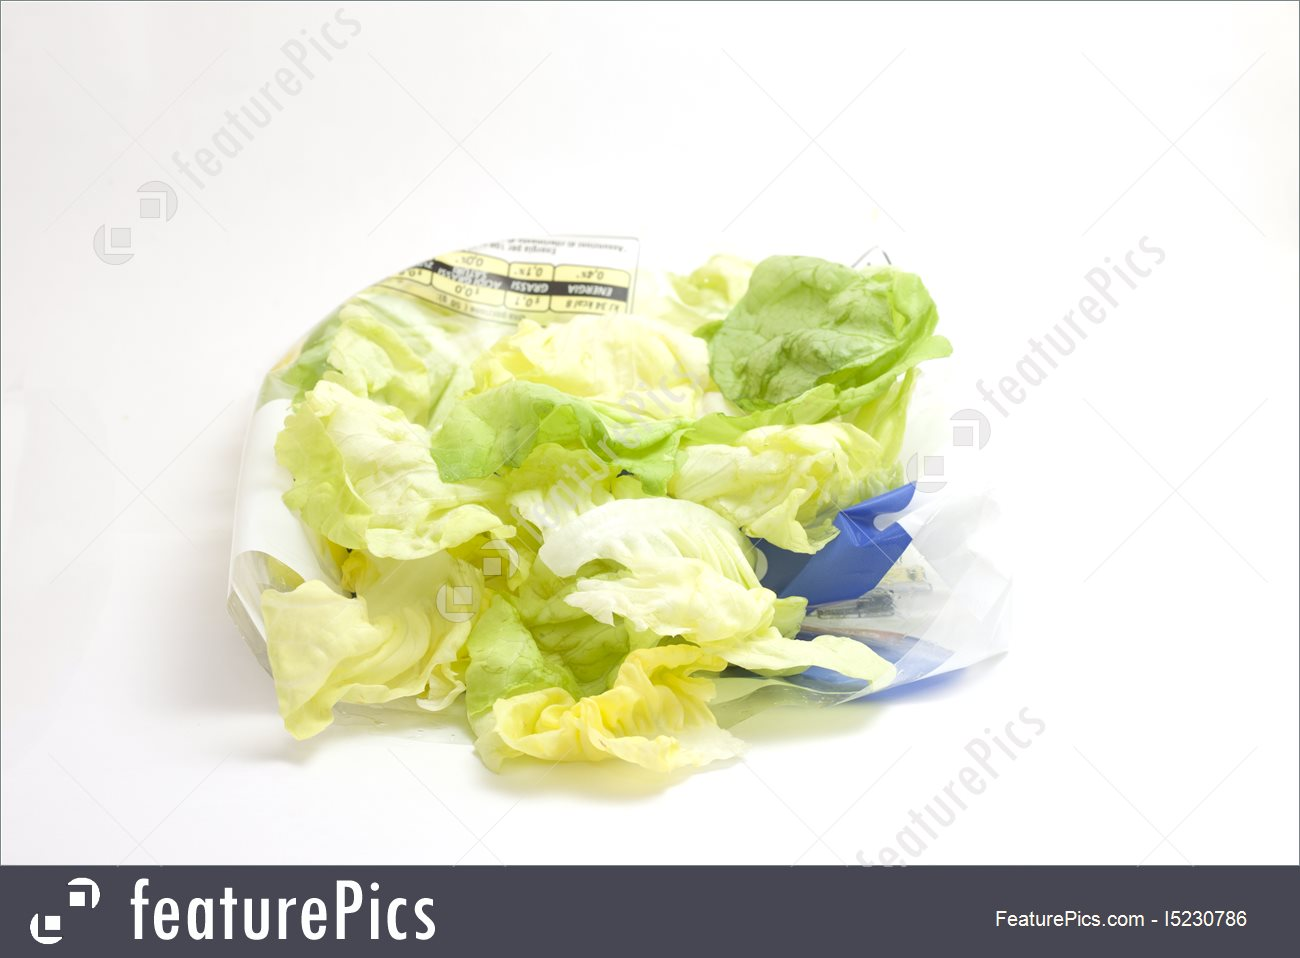chopped lettuce: (321, 269, 916, 747)
